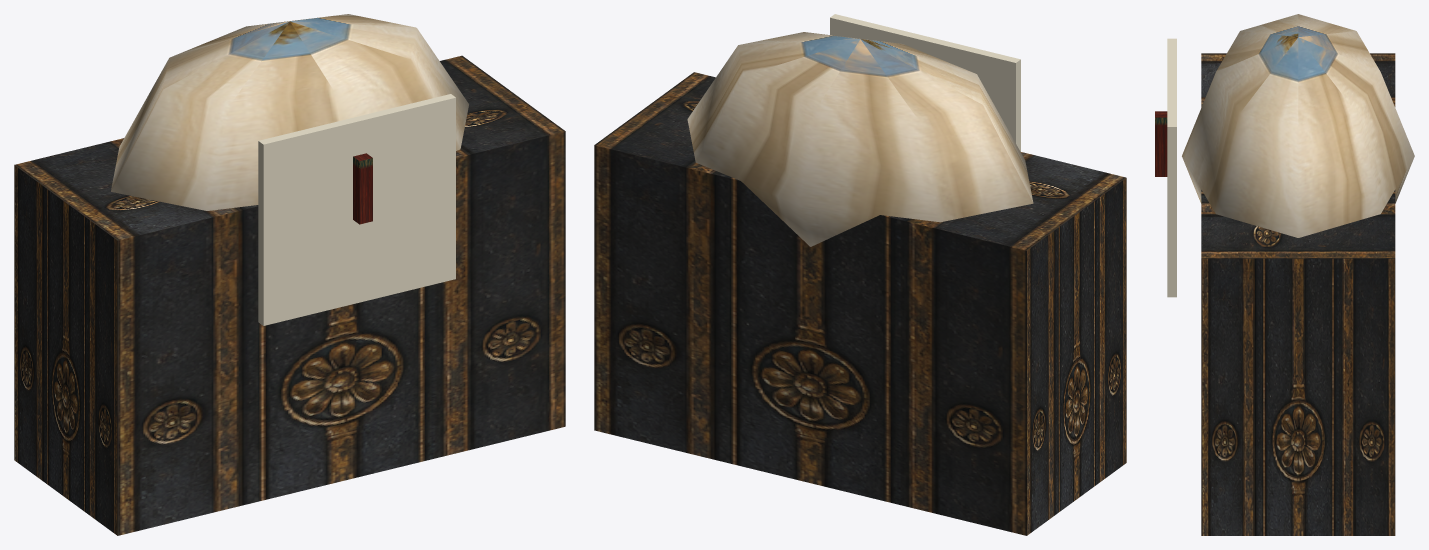
File: clock.gltf
The picture shows the model from 3 angles, left to right: view 1: azimuth 30°, elevation 25°; view 2: azimuth 150°, elevation 25°; view 3: azimuth 270°, elevation 25°; orthographic projection. The views are drawn at different scales.
Visible parts, largest first — view 1: kit:0:furniture:mahogany:, kit:0:furniture:gold:, kit:0:furniture:ivory:, kit:0:furniture:bronze:; view 2: kit:0:furniture:mahogany:, kit:0:furniture:gold:, kit:0:furniture:ivory:; view 3: kit:0:furniture:mahogany:, kit:0:furniture:gold:, kit:0:furniture:ivory:, kit:0:furniture:bronze:.
Boxes of the visible parts, x1,y1,x2,y2 form: kit:0:furniture:mahogany:: (14, 55, 565, 535); kit:0:furniture:gold:: (111, 14, 468, 210); kit:0:furniture:ivory:: (258, 94, 455, 325); kit:0:furniture:bronze:: (353, 153, 372, 224); kit:0:furniture:mahogany:: (594, 72, 1126, 535); kit:0:furniture:gold:: (687, 32, 1033, 246); kit:0:furniture:ivory:: (830, 14, 1020, 151); kit:0:furniture:mahogany:: (1201, 53, 1395, 535); kit:0:furniture:gold:: (1182, 14, 1414, 237); kit:0:furniture:ivory:: (1167, 38, 1176, 297); kit:0:furniture:bronze:: (1155, 111, 1167, 176).
Bounding box in the file's own units: 0.5 × 0.45 × 0.2675.
Materials: 4 (3 with a texture image).
